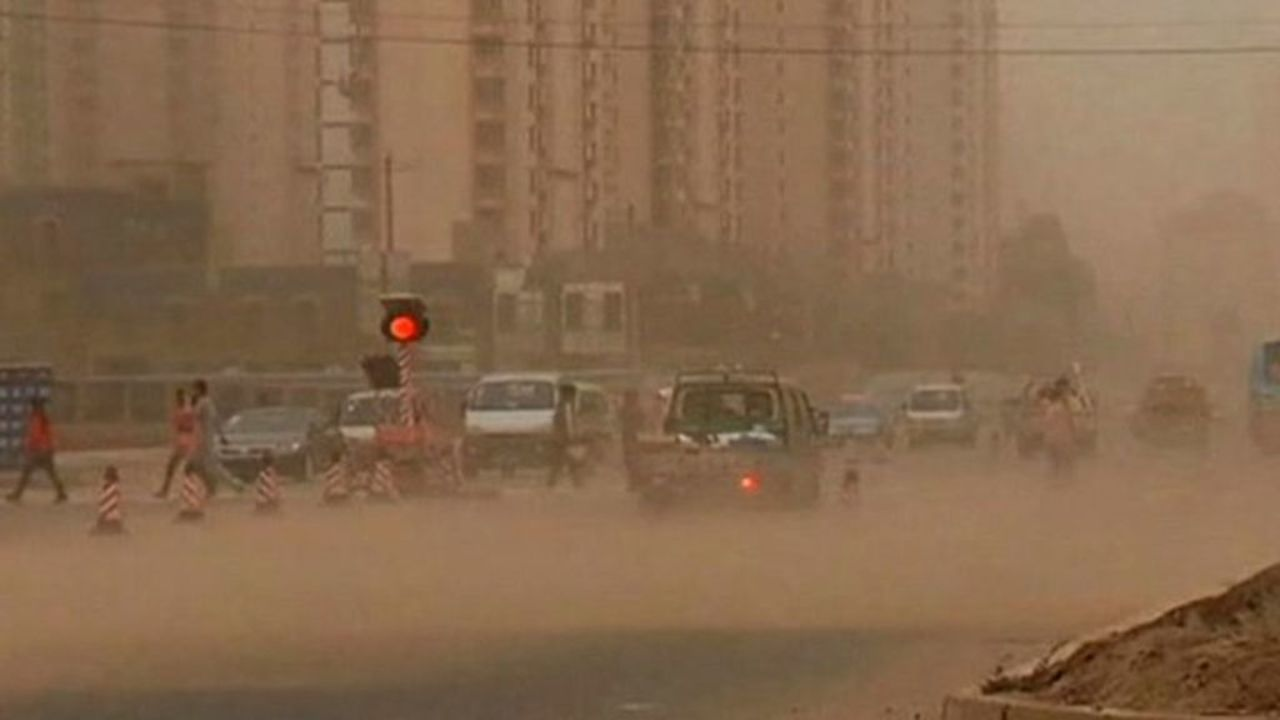car: (626, 370, 826, 516), (461, 372, 589, 454), (211, 407, 340, 472), (334, 390, 421, 459), (903, 381, 972, 444), (826, 397, 883, 442)
person: (151, 388, 214, 499), (9, 391, 64, 500), (1039, 377, 1077, 489), (546, 378, 582, 485), (188, 383, 220, 503)
truck: (1005, 369, 1103, 459), (1139, 371, 1211, 454)
